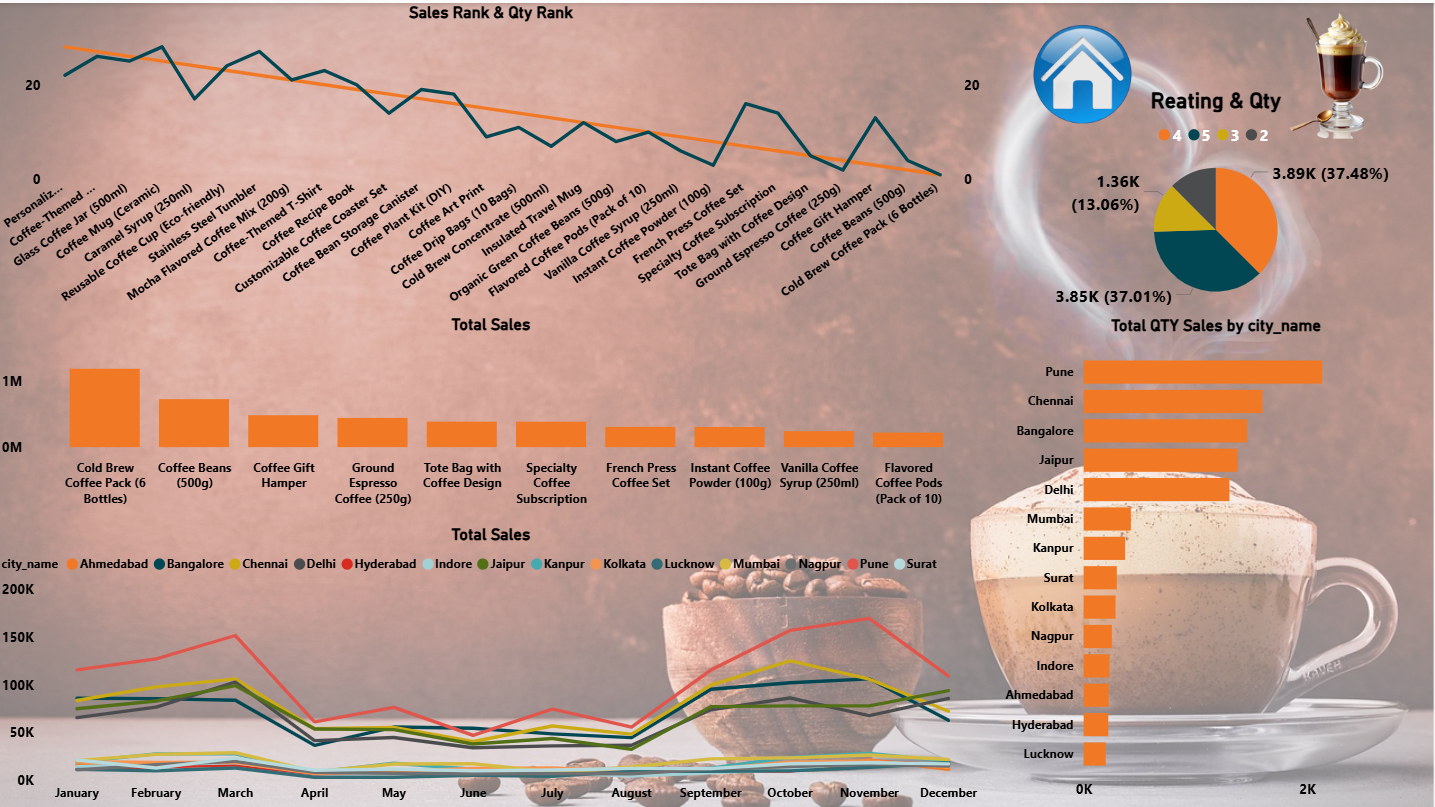

The page's visual inventory and layout, read from the dashboard file:
{"tool":"powerbi","page":{"name":"Sales Repots 2","canvas":[1280,720],"ordinal":1},"visuals":[{"type":"lineChart","title":"Total Sales","fields":{"Y":["sales.Total Sales"],"Series":["city.city_name"],"Category":["Calendar.Date.Variation.Date Hierarchy.Month"]},"box":[0,464.7,881.7,255.6],"z":0},{"type":"clusteredColumnChart","title":"Total Sales","fields":{"Category":["products.product_name"],"Y":["sales.Total Sales"]},"box":[0,277.6,881.7,178.5],"z":1000},{"type":"lineChart","title":"Sales Rank & Qty Rank","fields":{"Category":["products.product_name"],"Y":["products.Product rank sales"],"Y2":["products.QTY Rank"]},"box":[0,0,881.6,277.3],"z":1002},{"type":"pieChart","title":"Reating & Qty","fields":{"Category":["sales.rating (bins)"],"Y":["CountNonNull(sales.rating)"]},"box":[892.8,75.7,387.4,201.5],"z":1004},{"type":"clusteredBarChart","fields":{"Category":["city.city_name"],"Y":["sales.Total QTY Sales"]},"box":[892.7,278.6,387.5,440.8],"z":1005},{"type":"image","box":[892.8,0,150.3,125.8],"z":1006},{"type":"image","box":[1117.6,0,162.5,125.8],"z":1007}]}

Visuals, with their boxes in screenshot pixels (x1, y1, x2, y2), scaled from the page's 1280x720 canvas onto the 1435x807 screenshot:
"Total Sales" lineChart: <region>0, 521, 988, 806</region>
"Total Sales" clusteredColumnChart: <region>0, 311, 988, 511</region>
"Sales Rank & Qty Rank" lineChart: <region>0, 0, 988, 311</region>
"Reating & Qty" pieChart: <region>1001, 85, 1434, 311</region>
clusteredBarChart - city.city_name x sales.Total QTY Sales: <region>1001, 312, 1434, 806</region>
image: <region>1001, 0, 1169, 141</region>
image: <region>1253, 0, 1434, 141</region>
